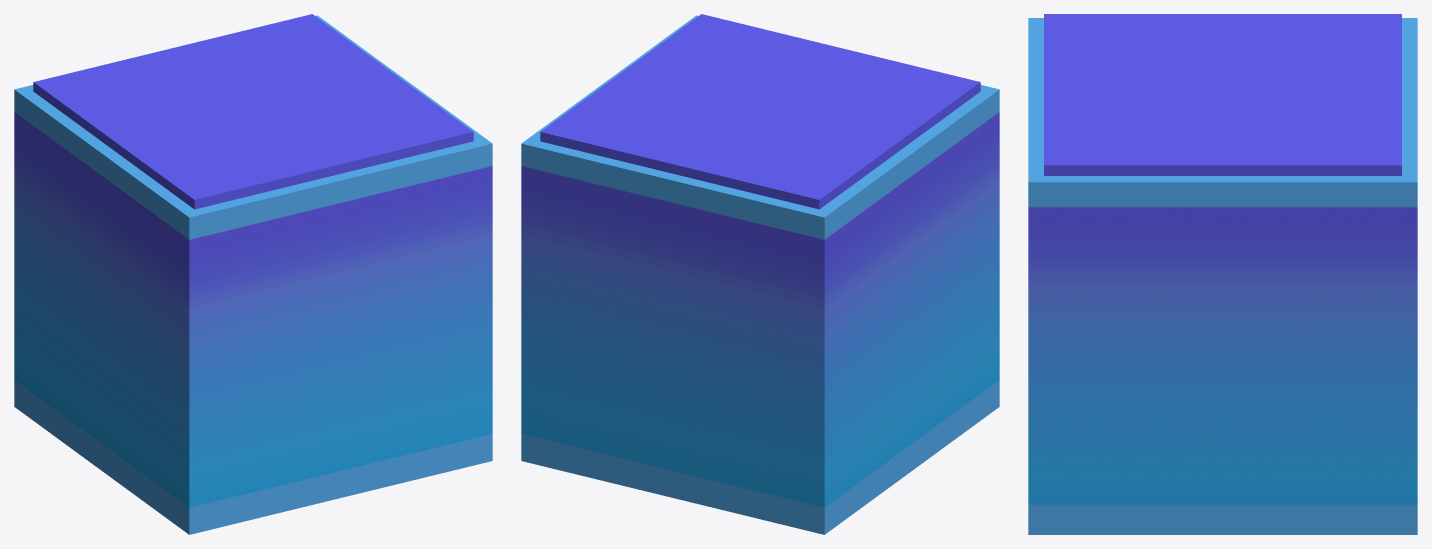
File: Tile.fbx
The picture shows the model from 3 angles, left to right: view 1: azimuth 30°, elevation 25°; view 2: azimuth 150°, elevation 25°; view 3: azimuth 270°, elevation 25°; orthographic projection. The views are drawn at different scales.
Visible parts, largest first — view 1: Box022; view 2: Box022; view 3: Box022.
Part boxes in pixels (bbox=[...]): Box022: bbox=[14, 14, 492, 534]; Box022: bbox=[521, 14, 999, 534]; Box022: bbox=[1028, 14, 1417, 534].
Bounding box in the file's own units: 1 × 1.03 × 1.
1 material, 1 textured.
